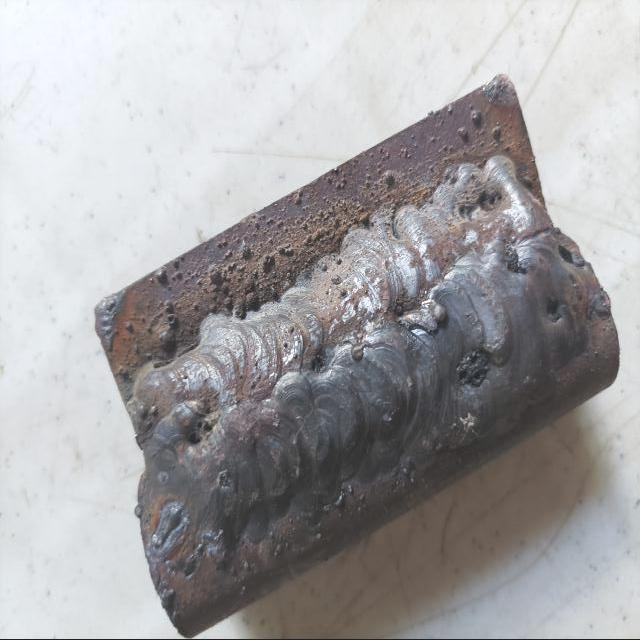defect: (452, 341, 494, 390), (538, 286, 568, 331), (186, 415, 217, 450), (501, 239, 528, 279), (215, 471, 236, 500), (309, 350, 325, 374)
